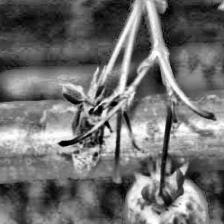Gray Mold: (72, 76, 110, 176)
